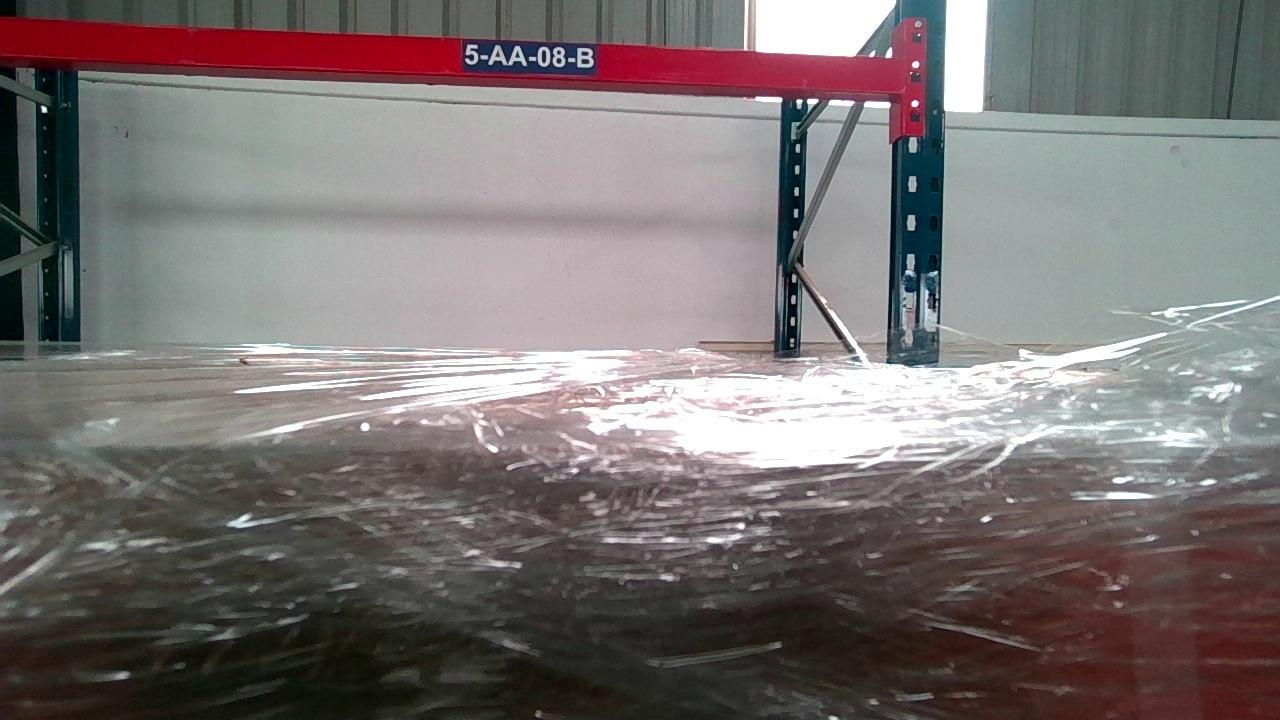h_rack: (1, 17, 909, 93)
